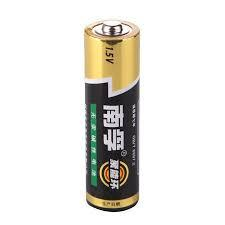AA: (83, 18, 140, 212)
